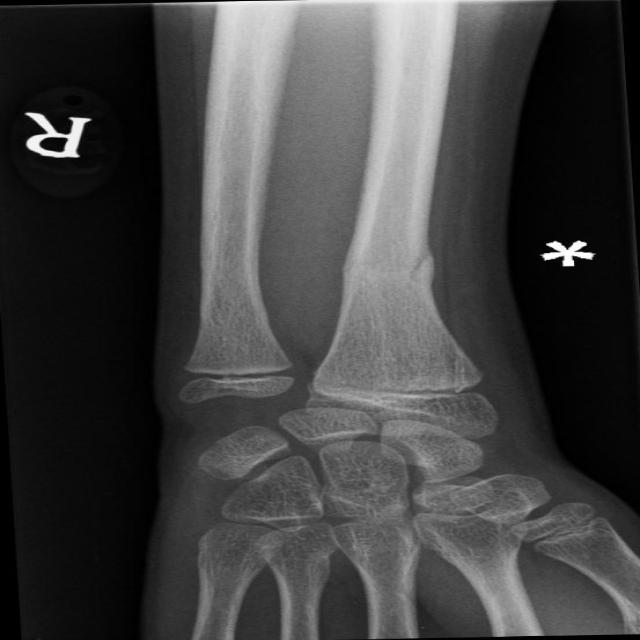Greenstick: (372, 218, 474, 304)
